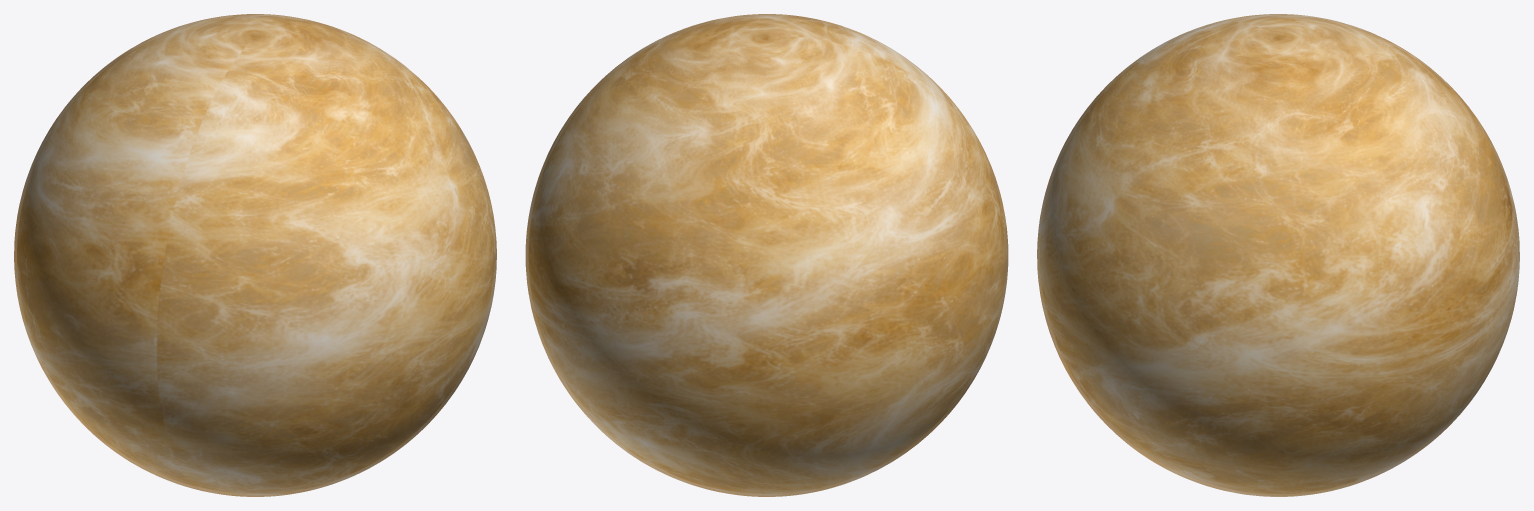
The model's file is venus.glb.
3 views of the same model, side by side, from view 1: azimuth 30°, elevation 25°; view 2: azimuth 150°, elevation 25°; view 3: azimuth 270°, elevation 25° (orthographic).
Parts seen in each view (by area): view 1: Venus_Clouds, Venus; view 2: Venus_Clouds, Venus; view 3: Venus_Clouds, Venus.
Boxes of the visible parts, x1,y1,x2,y2 form: Venus_Clouds: (14, 14, 496, 496); Venus: (17, 17, 493, 493); Venus_Clouds: (525, 14, 1008, 496); Venus: (528, 17, 1005, 493); Venus_Clouds: (1037, 14, 1519, 496); Venus: (1040, 17, 1516, 493).
Size of the model in its own units: 2.02 by 2.02 by 2.02.
2 materials, 2 textured.
